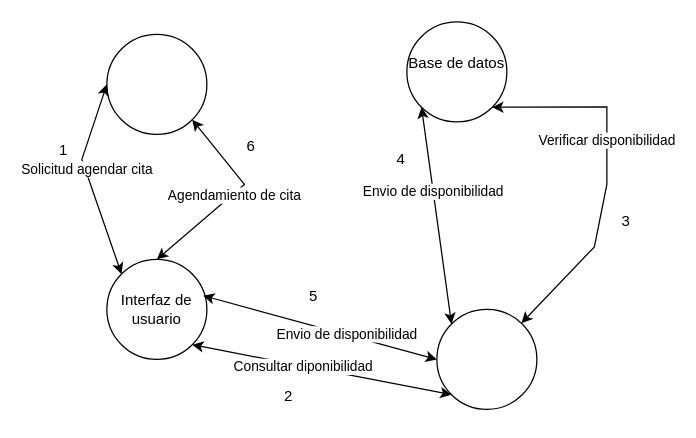
Image size: 696x438. Some labels were removed from this diagram. Here are the shapes that lost their labels. From the top down, the centre of each, then its label:
At pixel 156 83: "Usuario".
At pixel 486 358: "Sistema gestión de citas".
